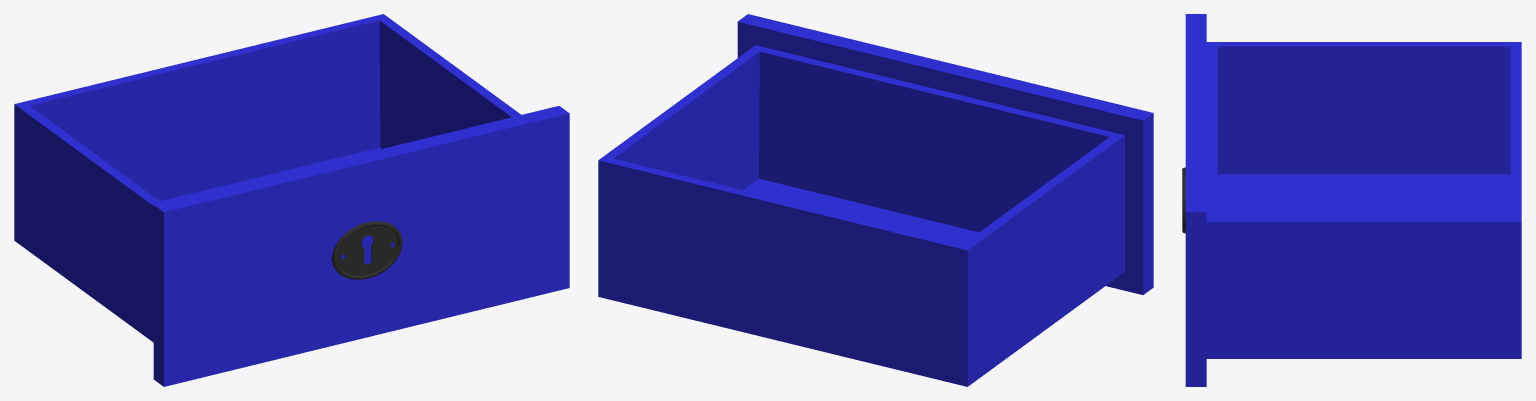
The model's file is tiroir_com_g.fbx.
The picture shows the model from 3 angles, left to right: view 1: azimuth 30°, elevation 25°; view 2: azimuth 150°, elevation 25°; view 3: azimuth 270°, elevation 25°; orthographic projection.
Visible parts, largest first — view 1: Object009; view 2: Object009; view 3: Object009.
Boxes of the visible parts, x1,y1,x2,y2 form: Object009: [14, 14, 569, 386]; Object009: [598, 14, 1153, 386]; Object009: [1182, 14, 1521, 386].
Bounding box in the file's own units: 0.4465 × 0.1836 × 0.3231.
